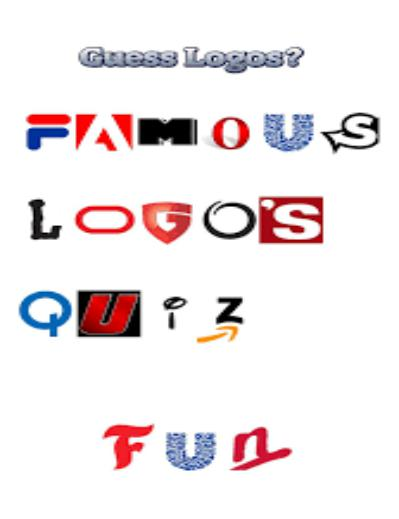GUESS: (68, 41, 182, 78)
